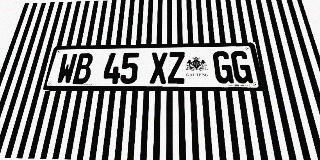4: (102, 53, 122, 84)
5: (120, 52, 139, 84)
B: (72, 53, 94, 84)
G: (230, 51, 253, 83), (213, 51, 234, 83)
W: (55, 53, 78, 84)
X: (150, 52, 167, 84)
Z: (168, 52, 186, 84)
